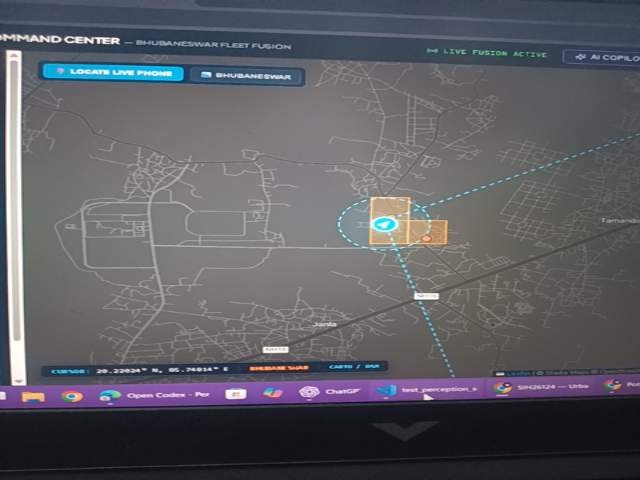pothole: (104, 403, 313, 480), (535, 405, 640, 480)
